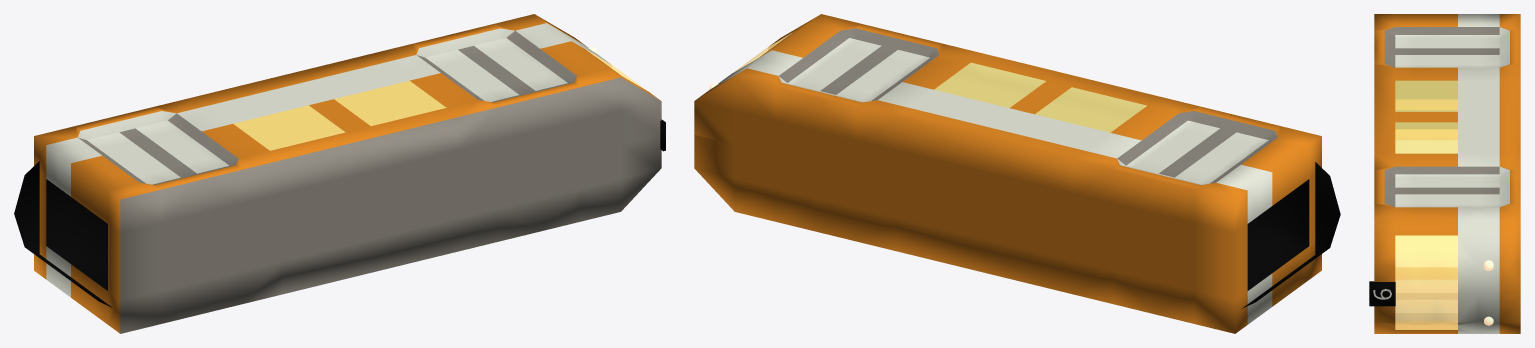
The model's file is asset20.glb.
3 views of the same model, side by side, from view 1: azimuth 30°, elevation 25°; view 2: azimuth 150°, elevation 25°; view 3: azimuth 270°, elevation 25° (orthographic). The views are drawn at different scales.
Parts seen in each view (by area): view 1: Cylinder4_sep14, Cylinder4_sep15, Cylinder4; view 2: Cylinder4_sep14, Cylinder4_sep15, Cylinder4; view 3: Cylinder4_sep14, Cylinder4_sep15, Cylinder4, Cube4.
Part boxes in pixels (box(x1,y1,x2,y2)): Cylinder4_sep14: box(34, 14, 661, 266); Cylinder4_sep15: box(34, 104, 661, 333); Cylinder4: box(14, 161, 112, 307); Cylinder4_sep14: box(694, 14, 1321, 266); Cylinder4_sep15: box(694, 135, 1321, 333); Cylinder4: box(1242, 162, 1340, 308); Cylinder4_sep14: box(1374, 14, 1520, 293); Cylinder4_sep15: box(1374, 100, 1520, 333); Cylinder4: box(1396, 81, 1457, 128); Cube4: box(1369, 281, 1395, 306).
Size of what is drawn, in the model's own units: 1.01 by 0.2268 by 0.2736.
